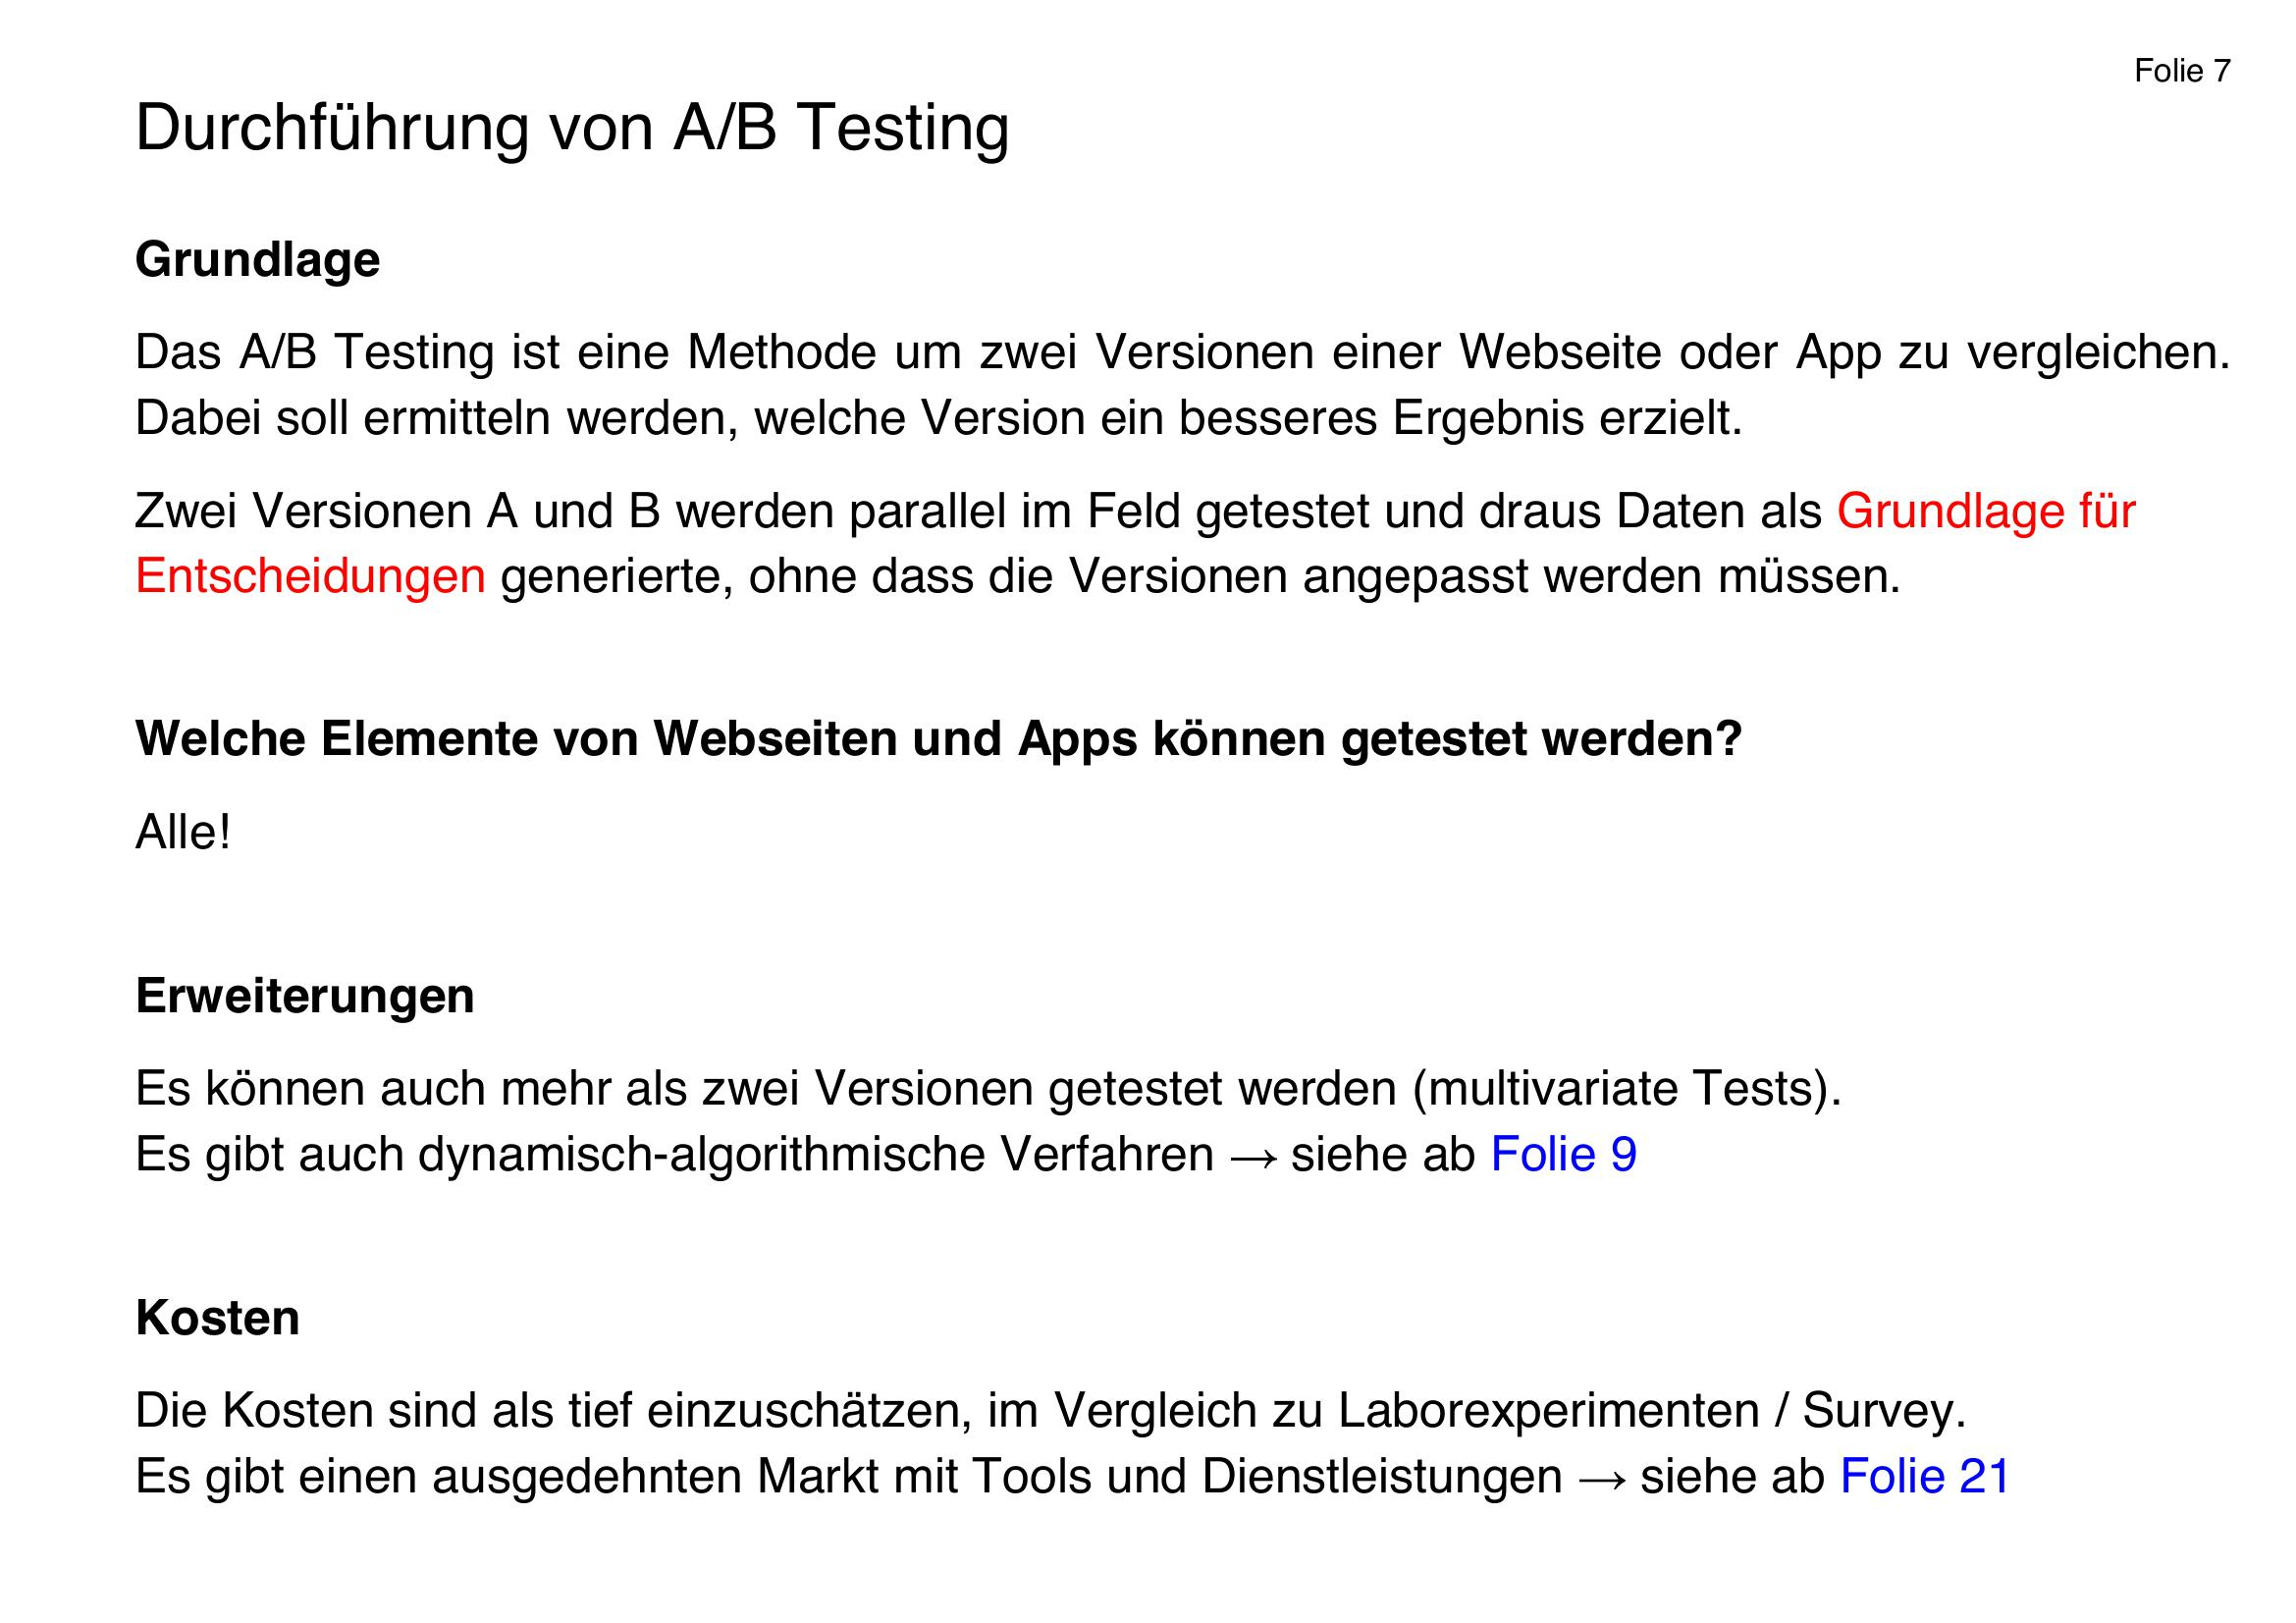Title: (98, 86, 1023, 177)
